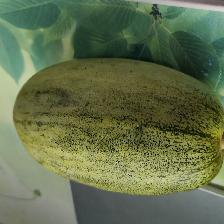gua: (11, 61, 221, 181)
